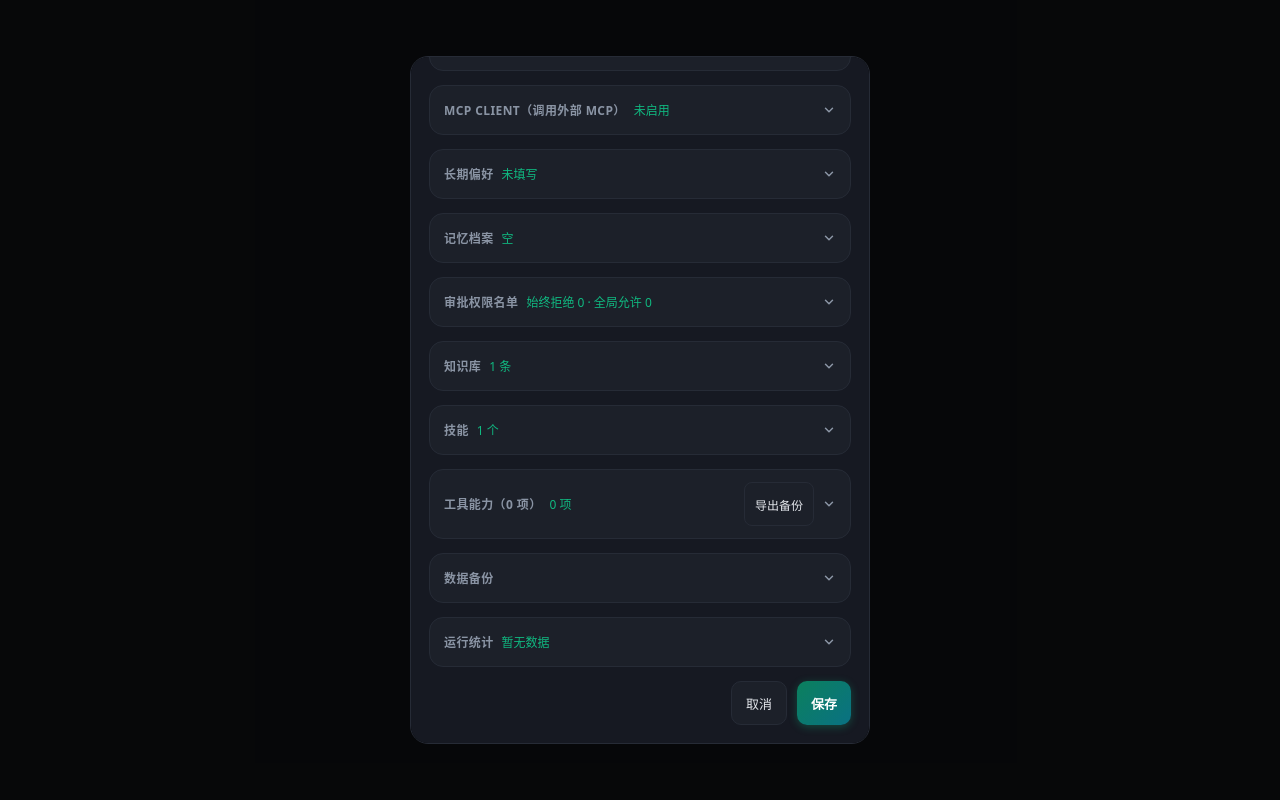
SettingsPanel 能力面 › 技能面板只读展示（不提供在线安装入口）
(page scrolled)
Click the button "技能 1 个". click: x=456, y=430
box: [444,422,836,439]
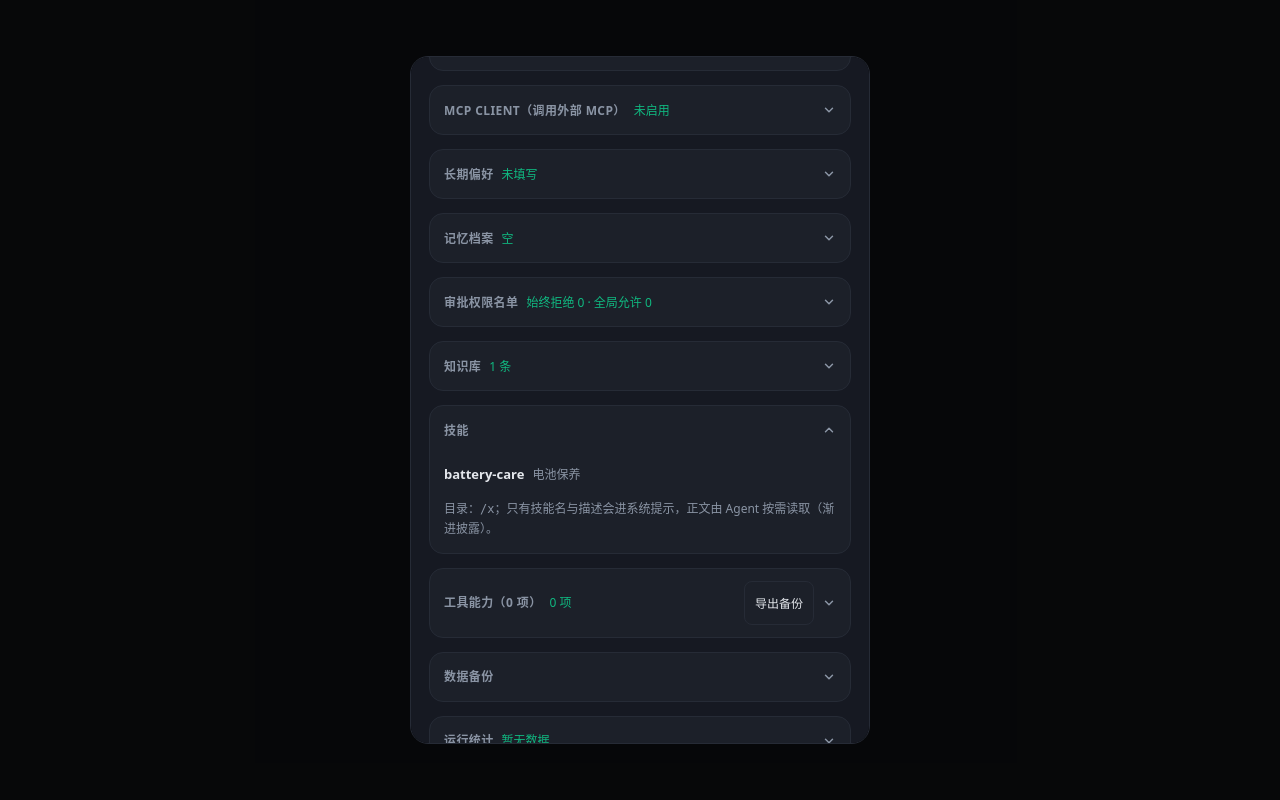
Check: the text "battery-care" is shown, box [444,464,524,485]
